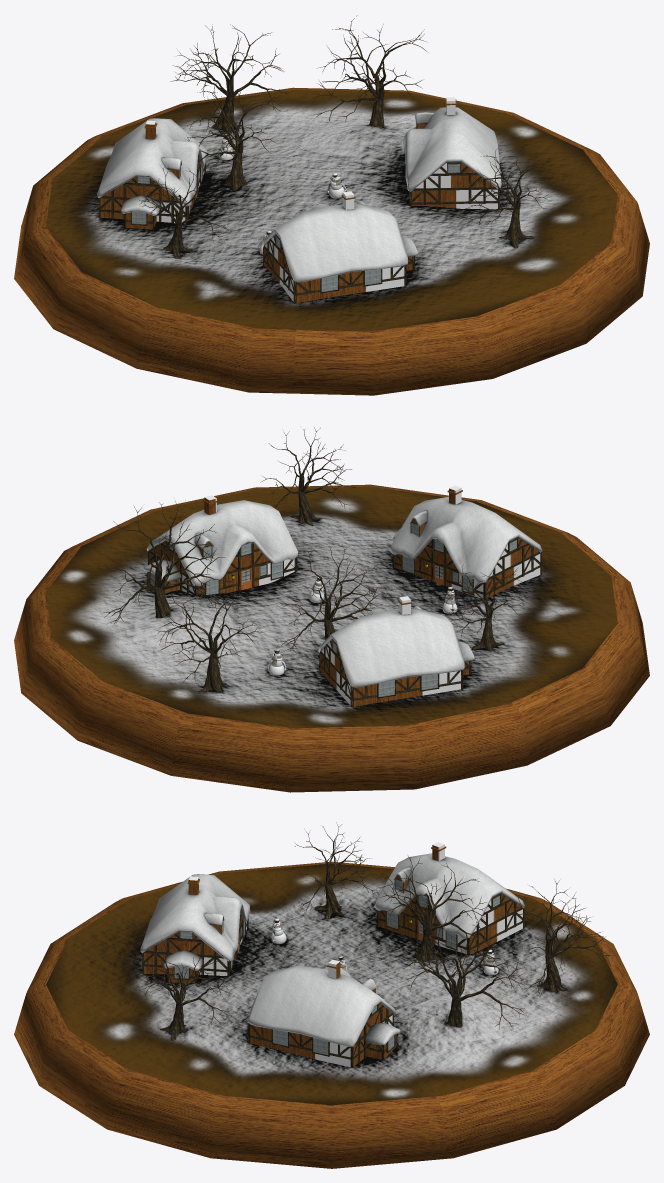
The model's file is SnowGlobe.dae.
The picture shows the model from 3 angles, top to bottom: view 1: azimuth 30°, elevation 25°; view 2: azimuth 150°, elevation 25°; view 3: azimuth 270°, elevation 25°; orthographic projection.
Parts seen in each view (by area): view 1: polySurface6; view 2: polySurface6; view 3: polySurface6.
Boxes of the visible parts, bbox=[...] form: polySurface6: bbox=[14, 15, 649, 395]; polySurface6: bbox=[14, 427, 649, 792]; polySurface6: bbox=[14, 822, 649, 1168].
Bounding box in the file's own units: 33.12 × 9.88 × 33.12.
